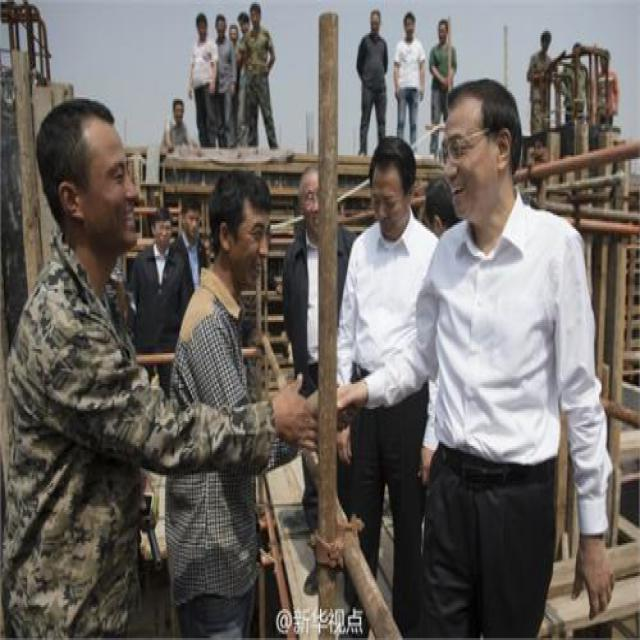head: (36, 90, 134, 257), (443, 71, 526, 220), (208, 164, 271, 284), (368, 133, 417, 234), (294, 164, 336, 239), (179, 191, 206, 243), (147, 205, 174, 251), (399, 5, 418, 44), (365, 5, 385, 36), (436, 11, 452, 48), (194, 7, 210, 42), (168, 96, 186, 127), (237, 9, 250, 40), (228, 19, 241, 48), (214, 13, 228, 38)
person: (426, 87, 611, 628), (5, 83, 168, 623), (153, 160, 284, 623), (336, 126, 433, 620), (353, 3, 395, 149), (185, 11, 224, 143), (393, 6, 428, 148), (430, 14, 462, 132)
